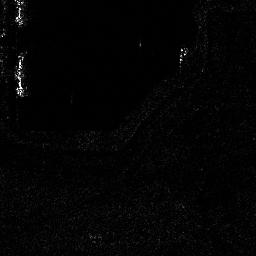ship: (15, 53, 29, 97), (14, 1, 25, 26)
